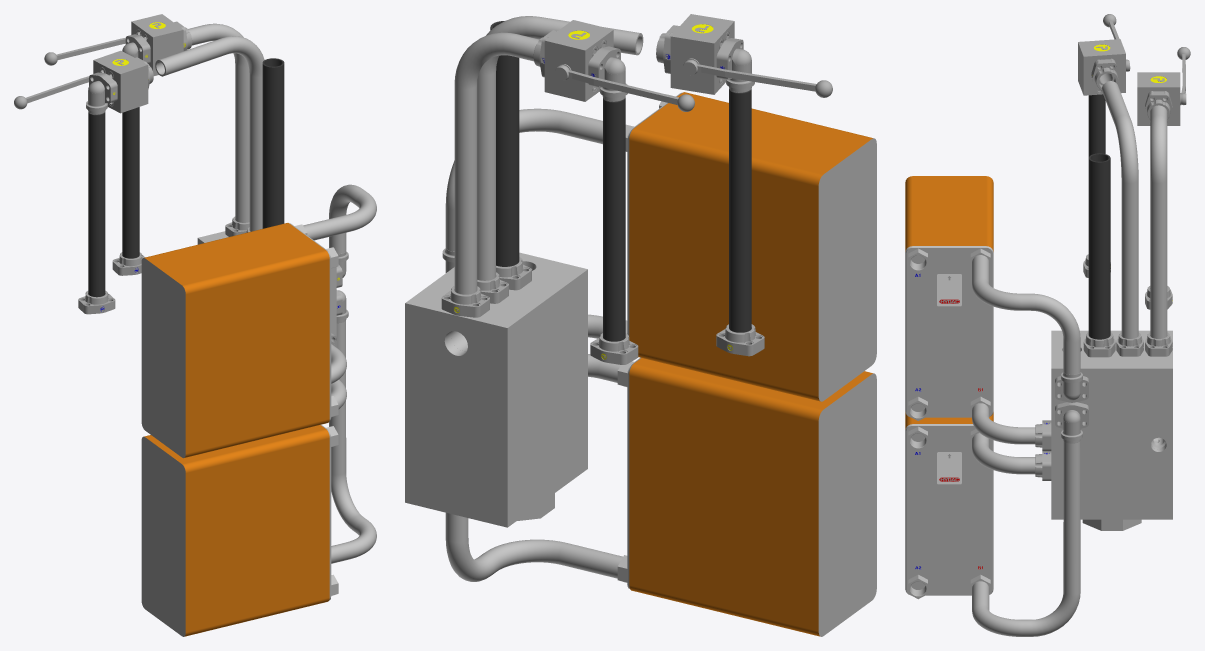
The model's file is (SBS) heat exchangers.glb.
3 renders of one model, left to right at view 1: azimuth 30°, elevation 25°; view 2: azimuth 150°, elevation 25°; view 3: azimuth 270°, elevation 25°, orthographic. The views are drawn at different scales.
Visible parts, largest first — view 1: Solid2 (×9), Solid1 (×7); view 2: Solid2 (×11), Solid1 (×7); view 3: Solid2 (×14), Solid1 (×8).
Boxes of the visible parts, x1,y1,x2,y2 form: Solid2 (×9): [14, 14, 338, 636]; Solid1 (×7): [88, 23, 376, 563]; Solid2 (×11): [405, 14, 876, 636]; Solid1 (×7): [445, 16, 751, 581]; Solid2 (×14): [905, 14, 1190, 599]; Solid1 (×8): [972, 81, 1167, 636].
Size of the model in its own units: 1 by 1.52 by 0.7957.
